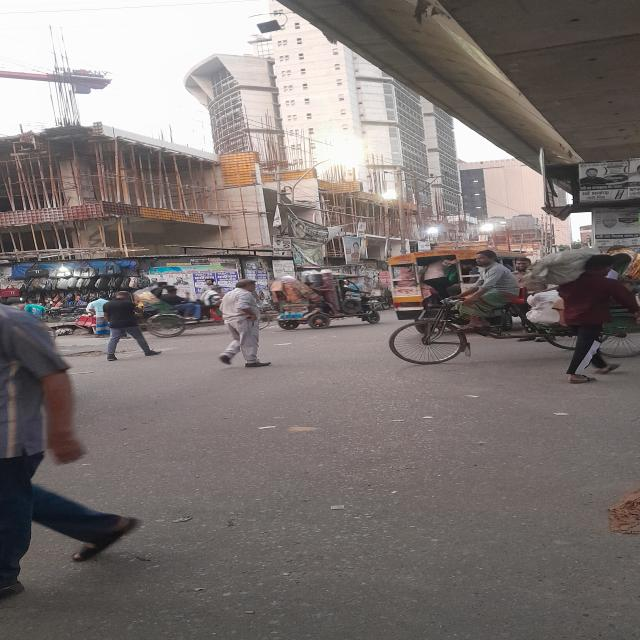person: (0, 305, 139, 599), (558, 252, 640, 384), (219, 279, 271, 368), (103, 291, 161, 361)
